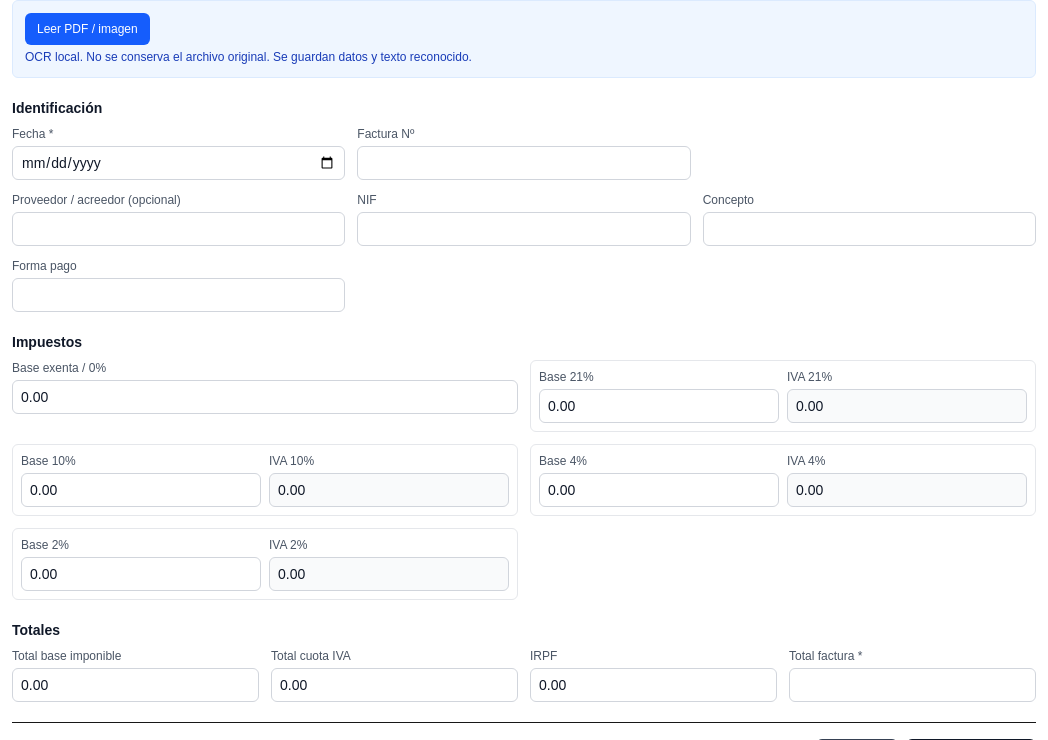
AccountingInvoiceForm › searches suppliers by NIF
Type "b270" into the dropdown labelled "NIF" at (524, 229), box [357,212,691,246]
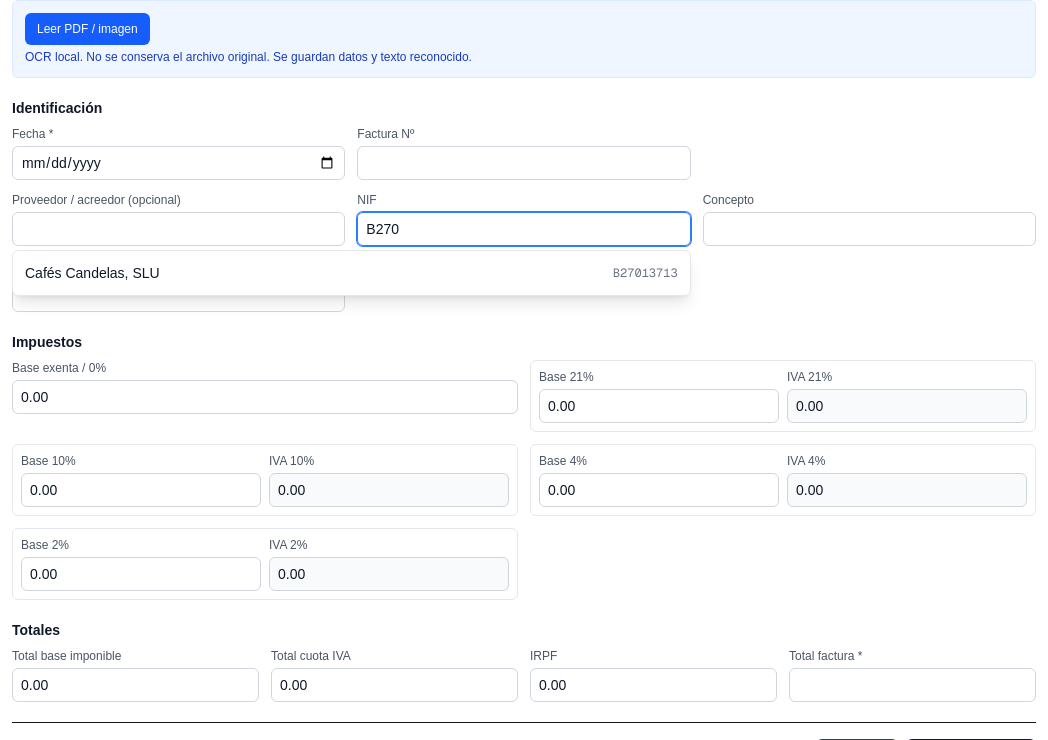
Check: the option "Cafés Candelas, SLU B27013713" is shown, box [13,255,690,291]
